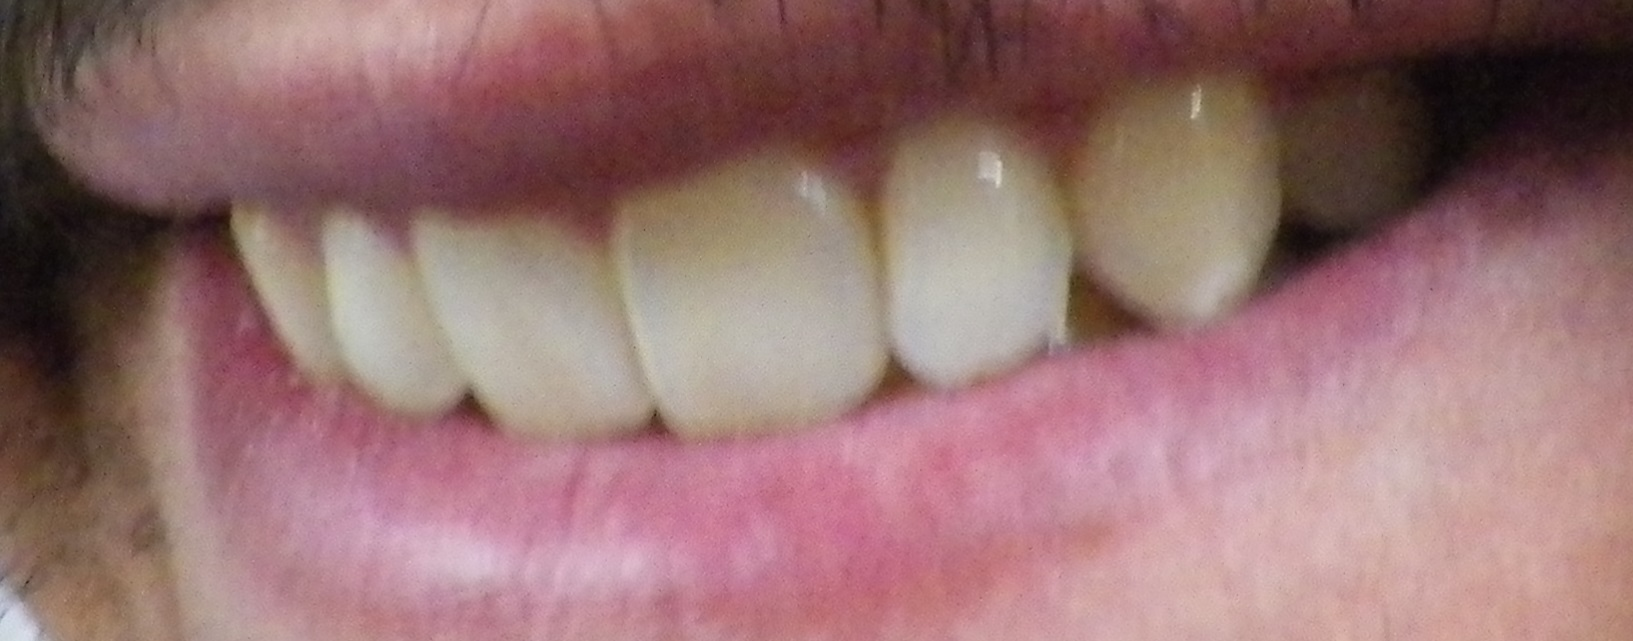boca: (241, 42, 1519, 435)
